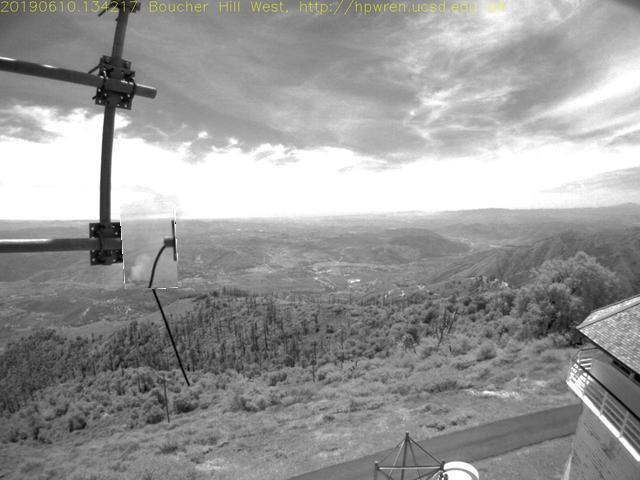smoke: (123, 204, 179, 291)
